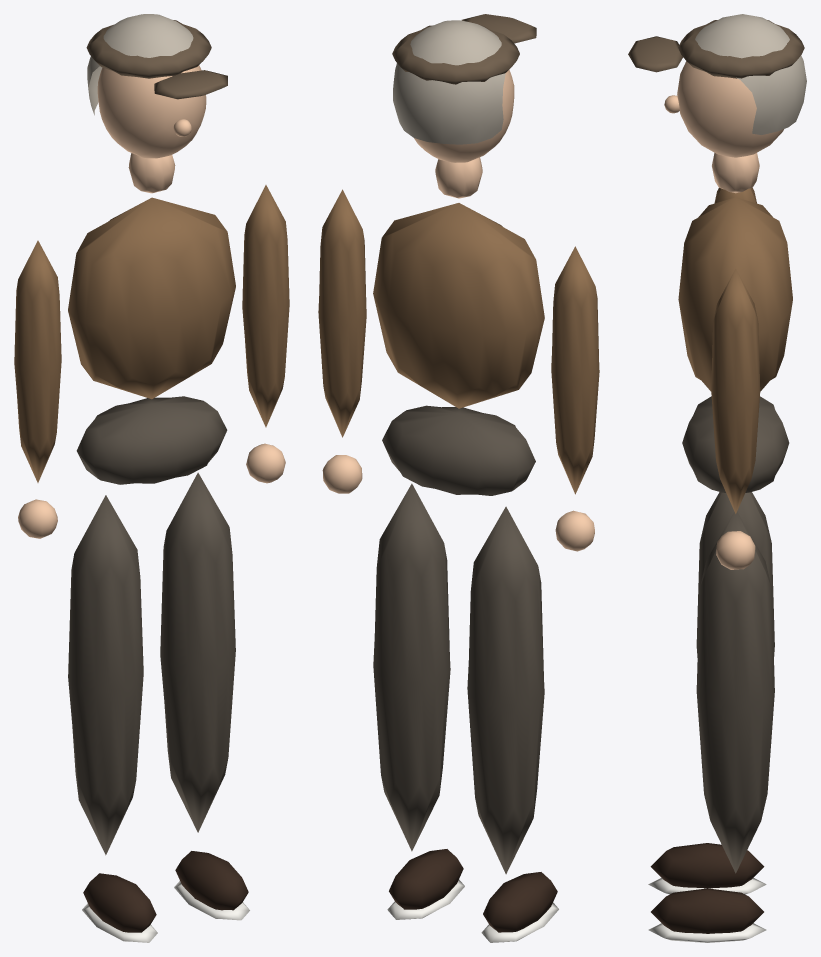
The model's file is getkong-hhped7.glb.
3 views of the same model, side by side, from view 1: azimuth 30°, elevation 25°; view 2: azimuth 150°, elevation 25°; view 3: azimuth 270°, elevation 25° (orthographic). The views are drawn at different scales.
Parts seen in each view (by area): view 1: rumpf, beinL, beinR, kopf, armL, armR; view 2: rumpf, beinR, beinL, kopf, armL, armR; view 3: beinR, rumpf, kopf, armR, beinL, armL.
Boxes of the visible parts, left/top/right/bottom form: rumpf: left=68, top=153, right=235, bottom=484; beinL: left=68, top=495, right=157, bottom=942; beinR: left=160, top=472, right=249, bottom=920; kopf: left=86, top=14, right=227, bottom=158; armL: left=14, top=240, right=61, bottom=538; armR: left=242, top=185, right=289, bottom=483; rumpf: left=373, top=157, right=544, bottom=495; beinR: left=373, top=483, right=464, bottom=919; beinL: left=467, top=506, right=558, bottom=942; kopf: left=392, top=14, right=536, bottom=162; armL: left=551, top=246, right=599, bottom=551; armR: left=318, top=189, right=366, bottom=493; beinR: left=648, top=511, right=774, bottom=942; rumpf: left=678, top=152, right=792, bottom=492; kopf: left=628, top=14, right=806, bottom=157; armR: left=711, top=268, right=760, bottom=569; beinL: left=648, top=492, right=774, bottom=894; armL: left=714, top=187, right=756, bottom=203.
Bounding box in the file's own units: 0.5566 × 1.74 × 0.3161.
